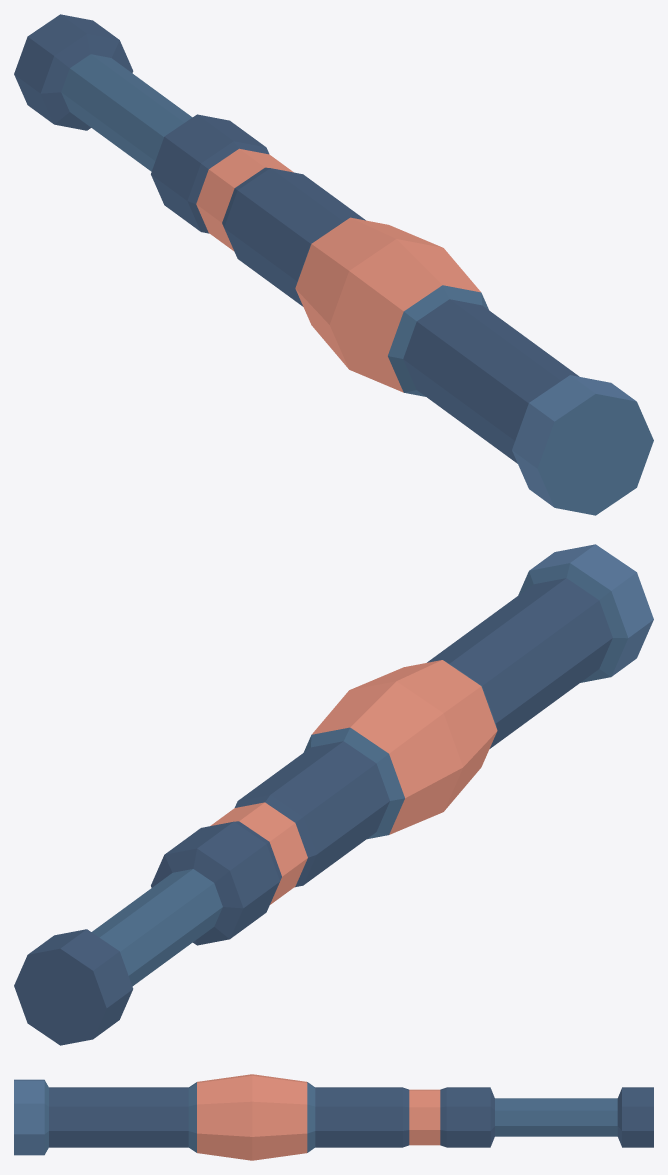
Rendered from pipeSeg-a1.glb.
3 views of the same model, one above another, from view 1: azimuth 30°, elevation 25°; view 2: azimuth 150°, elevation 25°; view 3: azimuth 270°, elevation 25° (orthographic). The views are drawn at different scales.
Parts seen in each view (by area): view 1: pipeSeg-a1; view 2: pipeSeg-a1; view 3: pipeSeg-a1.
Part boxes in pixels (x1,y1,x2,y2): pipeSeg-a1: (14,14,653,515); pipeSeg-a1: (14,544,653,1045); pipeSeg-a1: (14,1074,653,1160).
Size of the model in its own units: 0.7201 by 0.7201 by 5.
Materials: 1 (1 with a texture image).
